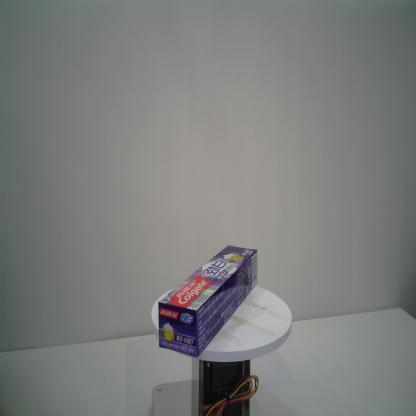Personal Hygiene: (156, 244, 259, 357)
